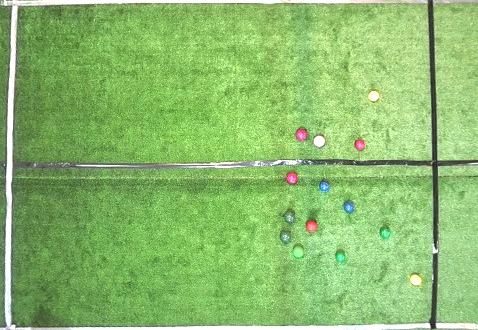blue: (319, 181, 330, 192), (343, 202, 354, 212)
green: (284, 211, 296, 222), (280, 231, 291, 243), (293, 246, 303, 258), (380, 227, 390, 238), (335, 252, 345, 262)
red: (295, 128, 308, 140), (313, 135, 325, 147), (306, 220, 317, 232), (287, 172, 298, 184), (354, 140, 365, 151)
vline: (427, 0, 477, 329), (0, 0, 20, 329)
white: (10, 324, 17, 329)
yellow: (410, 274, 422, 285), (368, 91, 379, 101)
